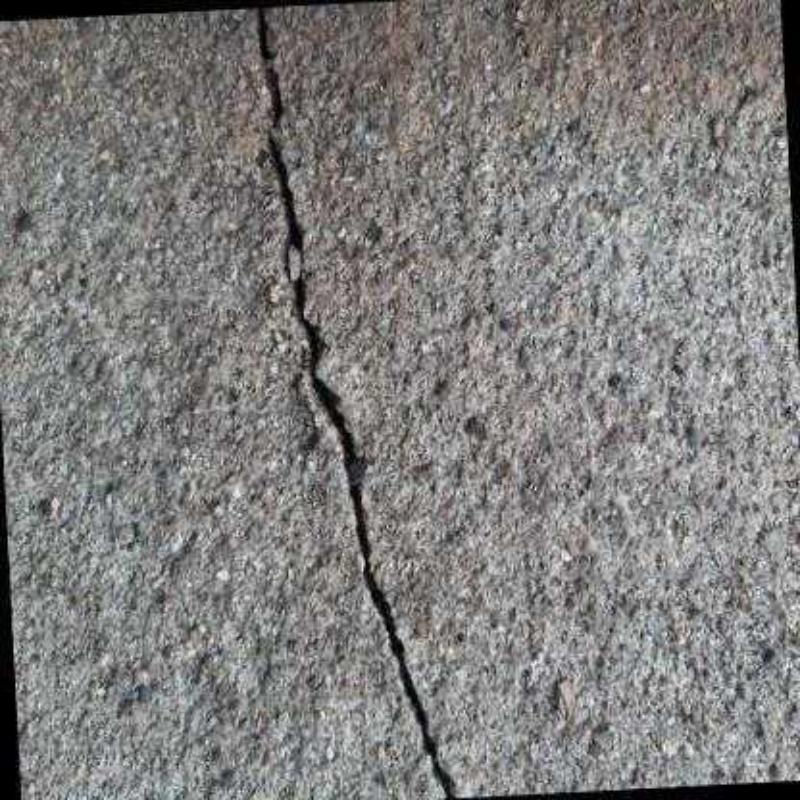pothole: (256, 10, 453, 798)
